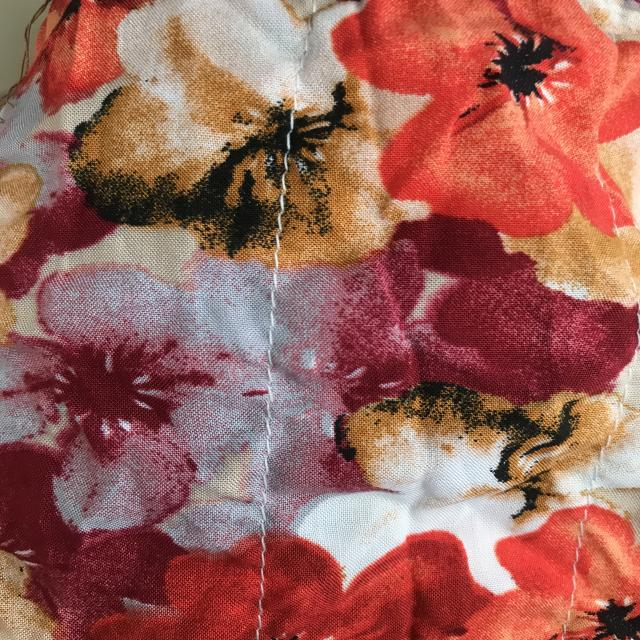good: (251, 232, 286, 564), (275, 114, 303, 215)
